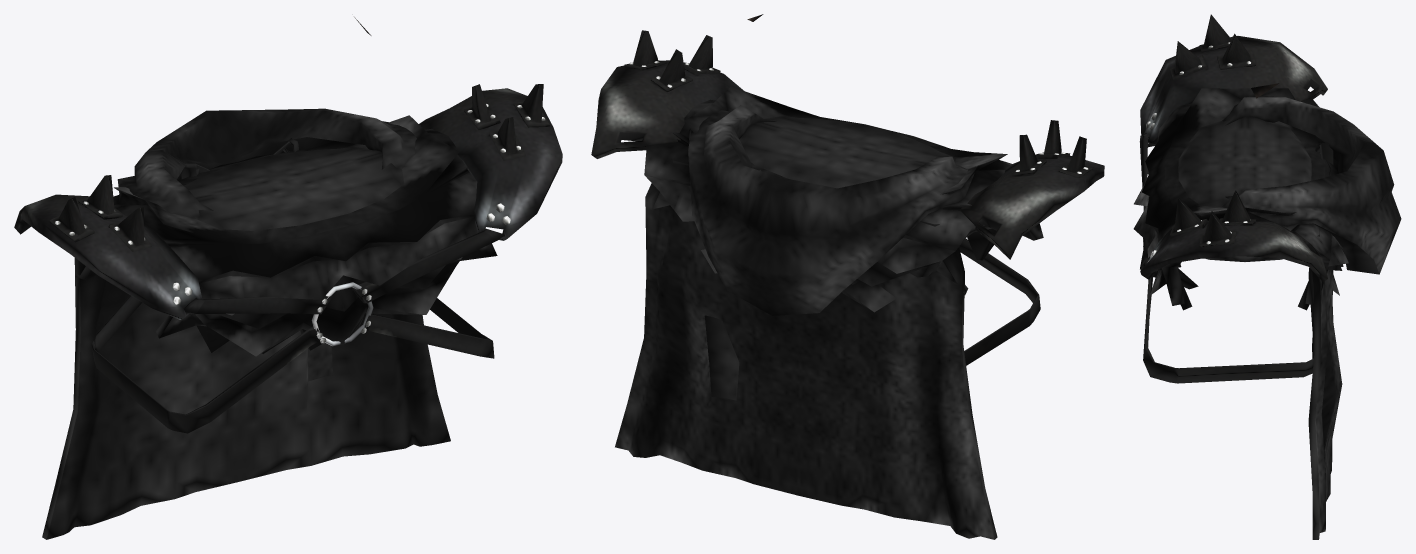
File: CloakDarkLord.fbx
The picture shows the model from 3 angles, left to right: view 1: azimuth 30°, elevation 25°; view 2: azimuth 150°, elevation 25°; view 3: azimuth 270°, elevation 25°; orthographic projection. The views are drawn at different scales.
Parts seen in each view (by area): view 1: Riqaz.005; view 2: Riqaz.005; view 3: Riqaz.005.
Boxes of the visible parts, bbox=[...] form: Riqaz.005: bbox=[14, 17, 562, 539]; Riqaz.005: bbox=[591, 14, 1104, 539]; Riqaz.005: bbox=[1133, 14, 1401, 539].
Size of the model in its own units: 94.93 by 85.31 by 50.7.
Materials: 3 (3 with a texture image).
